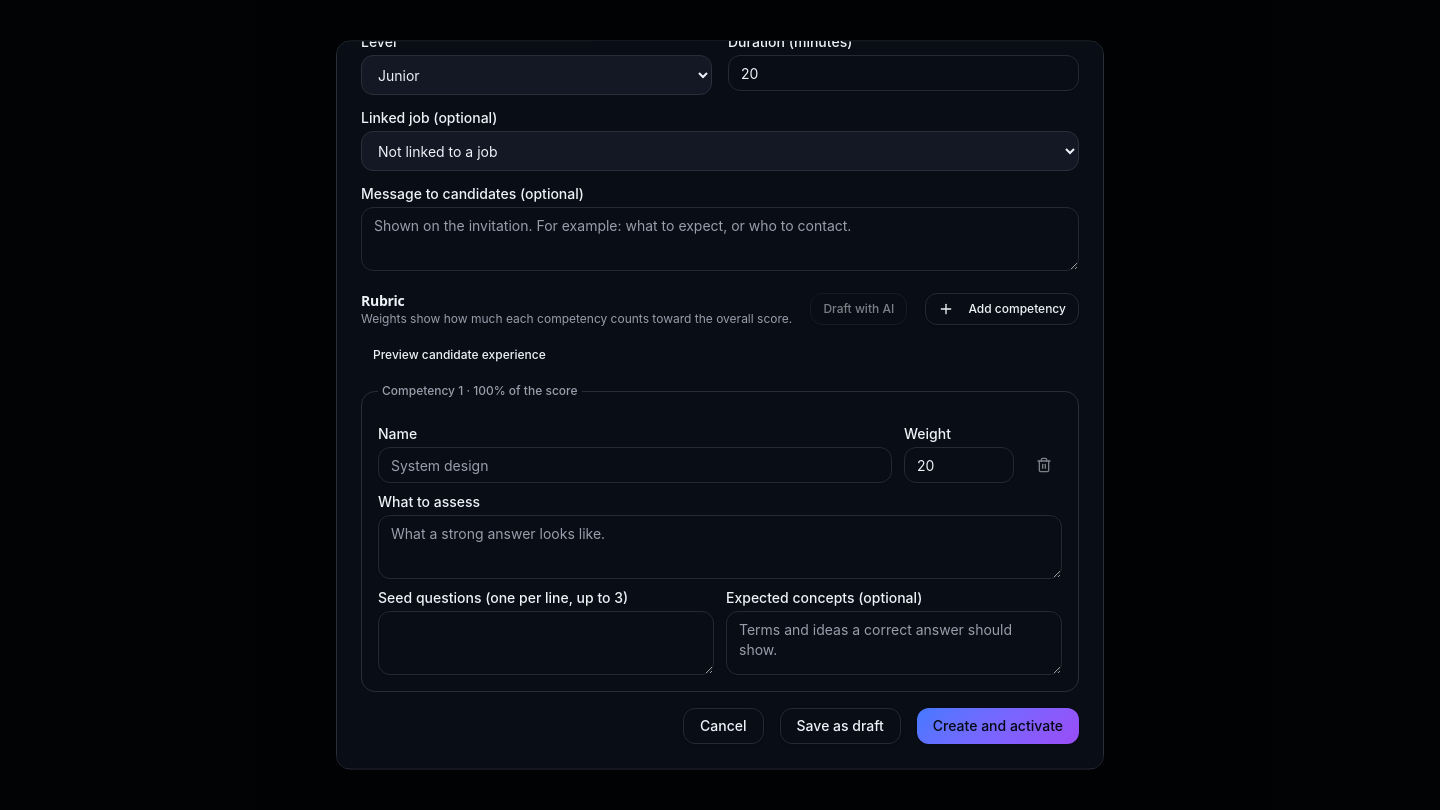
Test: TemplateFormDialog › will not save an incomplete interview and says what is missing
(page scrolled)
Click the button "Create and activate" at point(998, 726), box x1=917 y1=708 x2=1079 y2=744
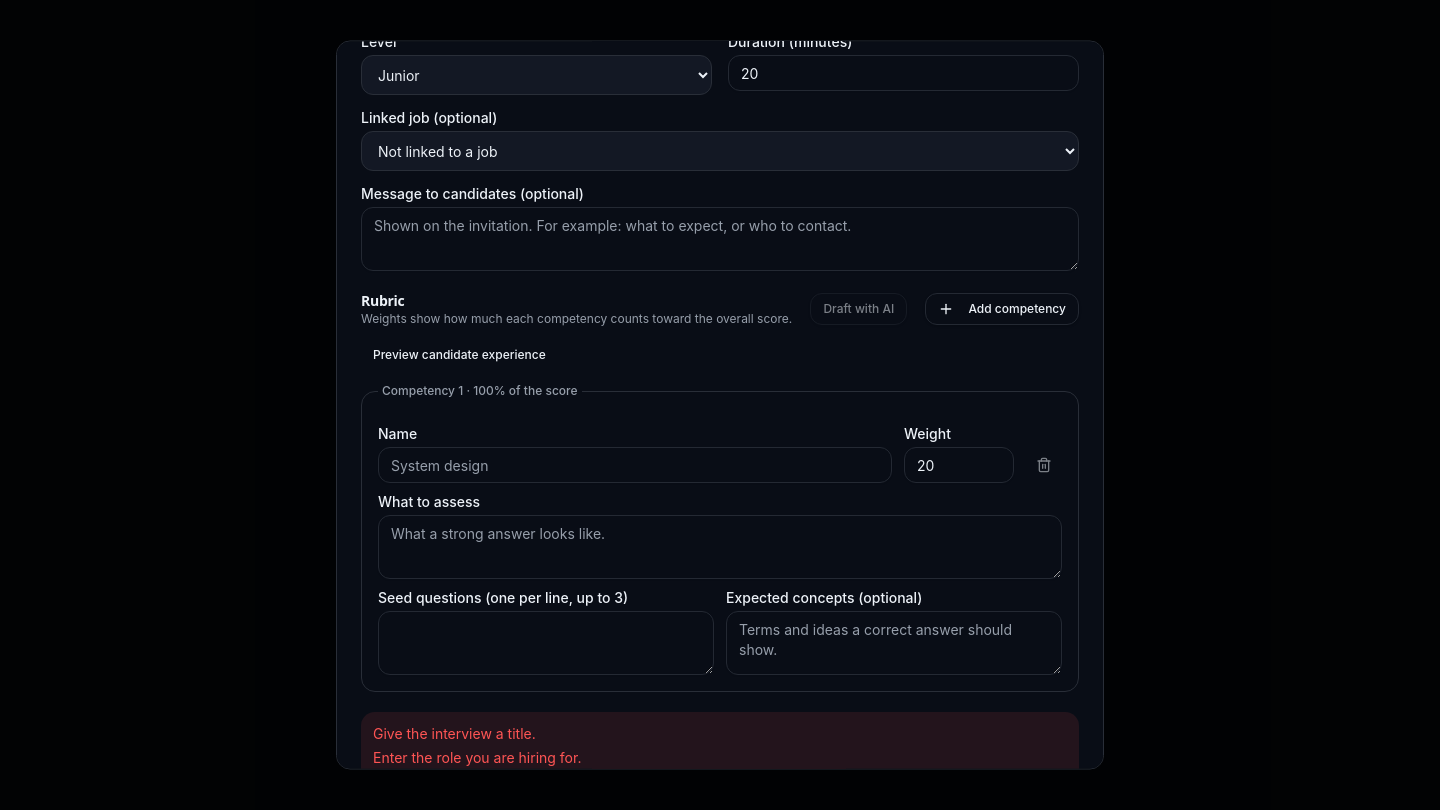
expect the message shows "Give the interview a title": met, box x1=373 y1=726 x2=536 y2=742
expect the message shows "Enter the role": met, box x1=373 y1=750 x2=582 y2=766
